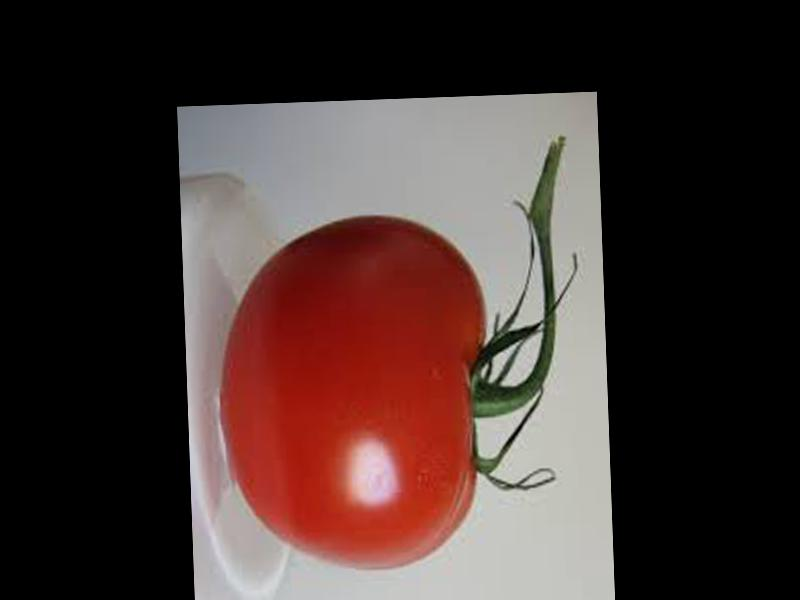Tomato: (215, 211, 494, 574)
